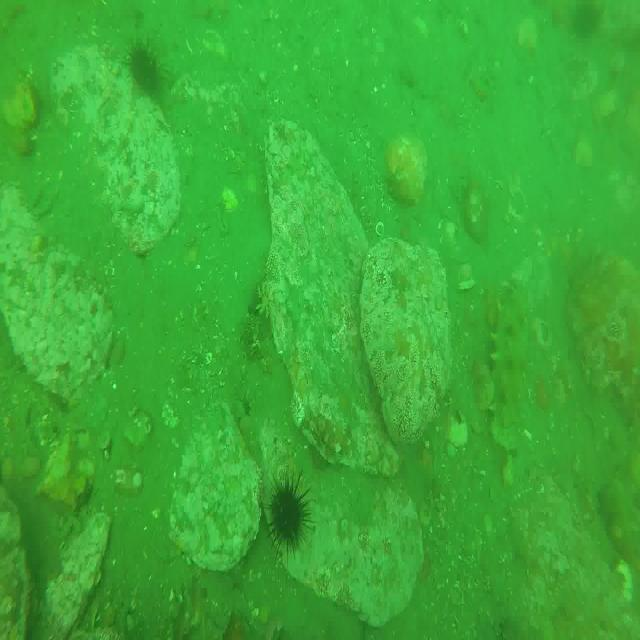echinus: (266, 475, 309, 549), (131, 43, 165, 97)
holothurian: (491, 281, 529, 445)
